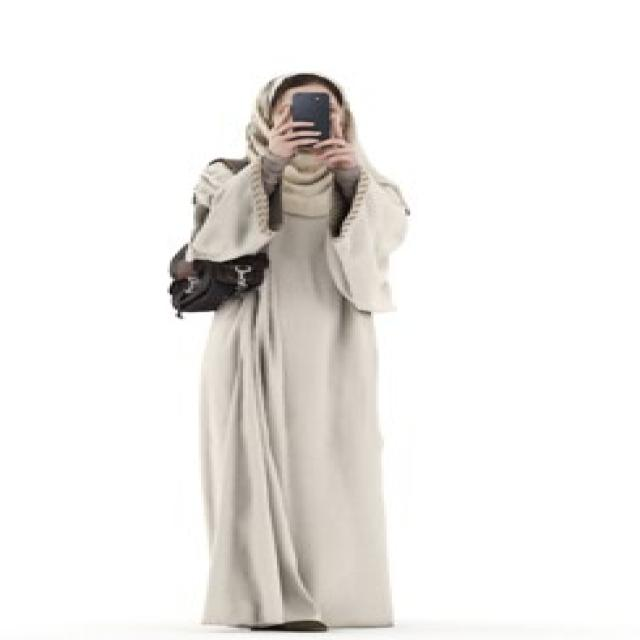standing: (179, 69, 410, 637)
